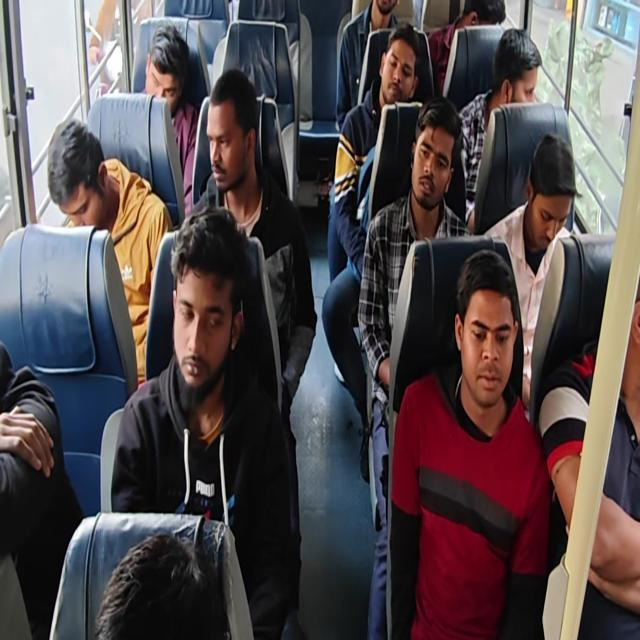person: (2, 1, 638, 638), (110, 205, 293, 638), (190, 66, 318, 623), (386, 248, 551, 638), (357, 95, 472, 638), (321, 24, 421, 481), (539, 272, 640, 638), (47, 118, 173, 387), (482, 132, 581, 410), (0, 339, 83, 638), (455, 27, 542, 229), (94, 532, 231, 639), (139, 24, 199, 217), (336, 0, 400, 132), (427, 0, 506, 96)
